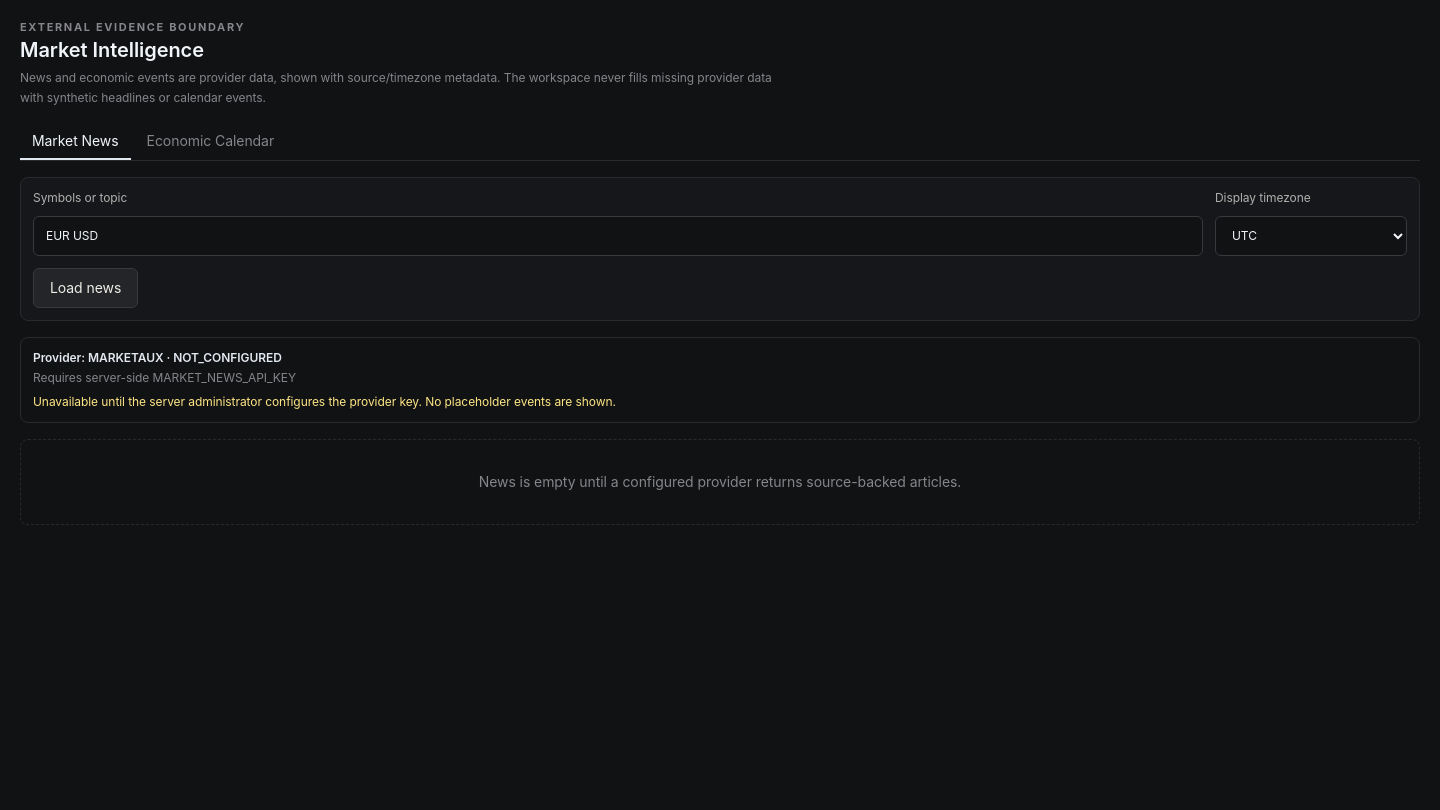
Test: Market Intelligence workspace › shows provider status and does not invent news when unconfigured
Expected: the text "Requires server-side MARKET_NEWS_API_KEY" is shown, [33, 370, 296, 385]
Expected: the text "No placeholder events are shown" is shown, [33, 394, 616, 409]
What coordinates should you click on to do the following:
click the button "Load news"
I would click on:
 (86, 288)
Its box is [33, 268, 138, 308].
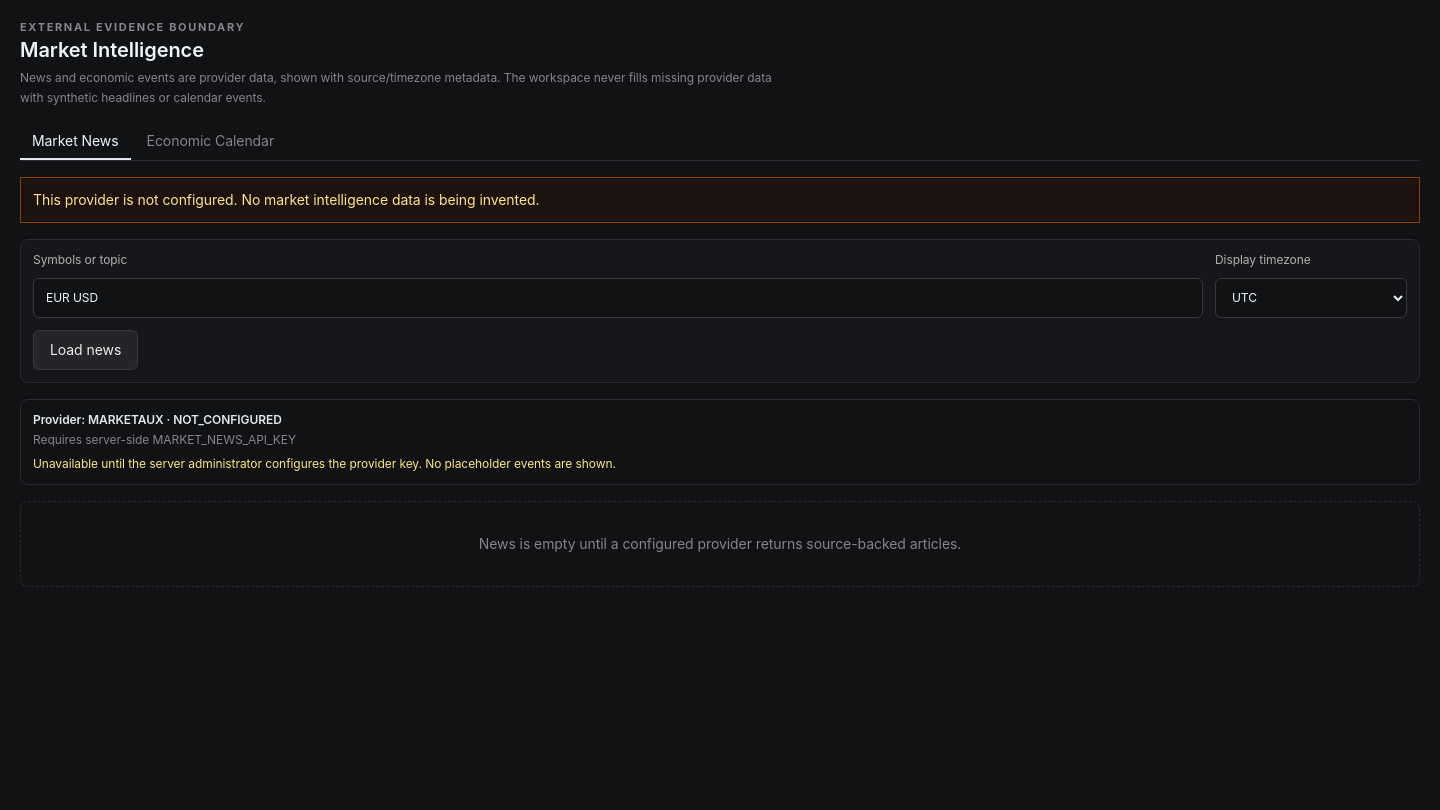
Expected: the message is shown, [20, 177, 1420, 223]
Expected: the text "provider is not configured" is shown, [33, 191, 540, 208]
